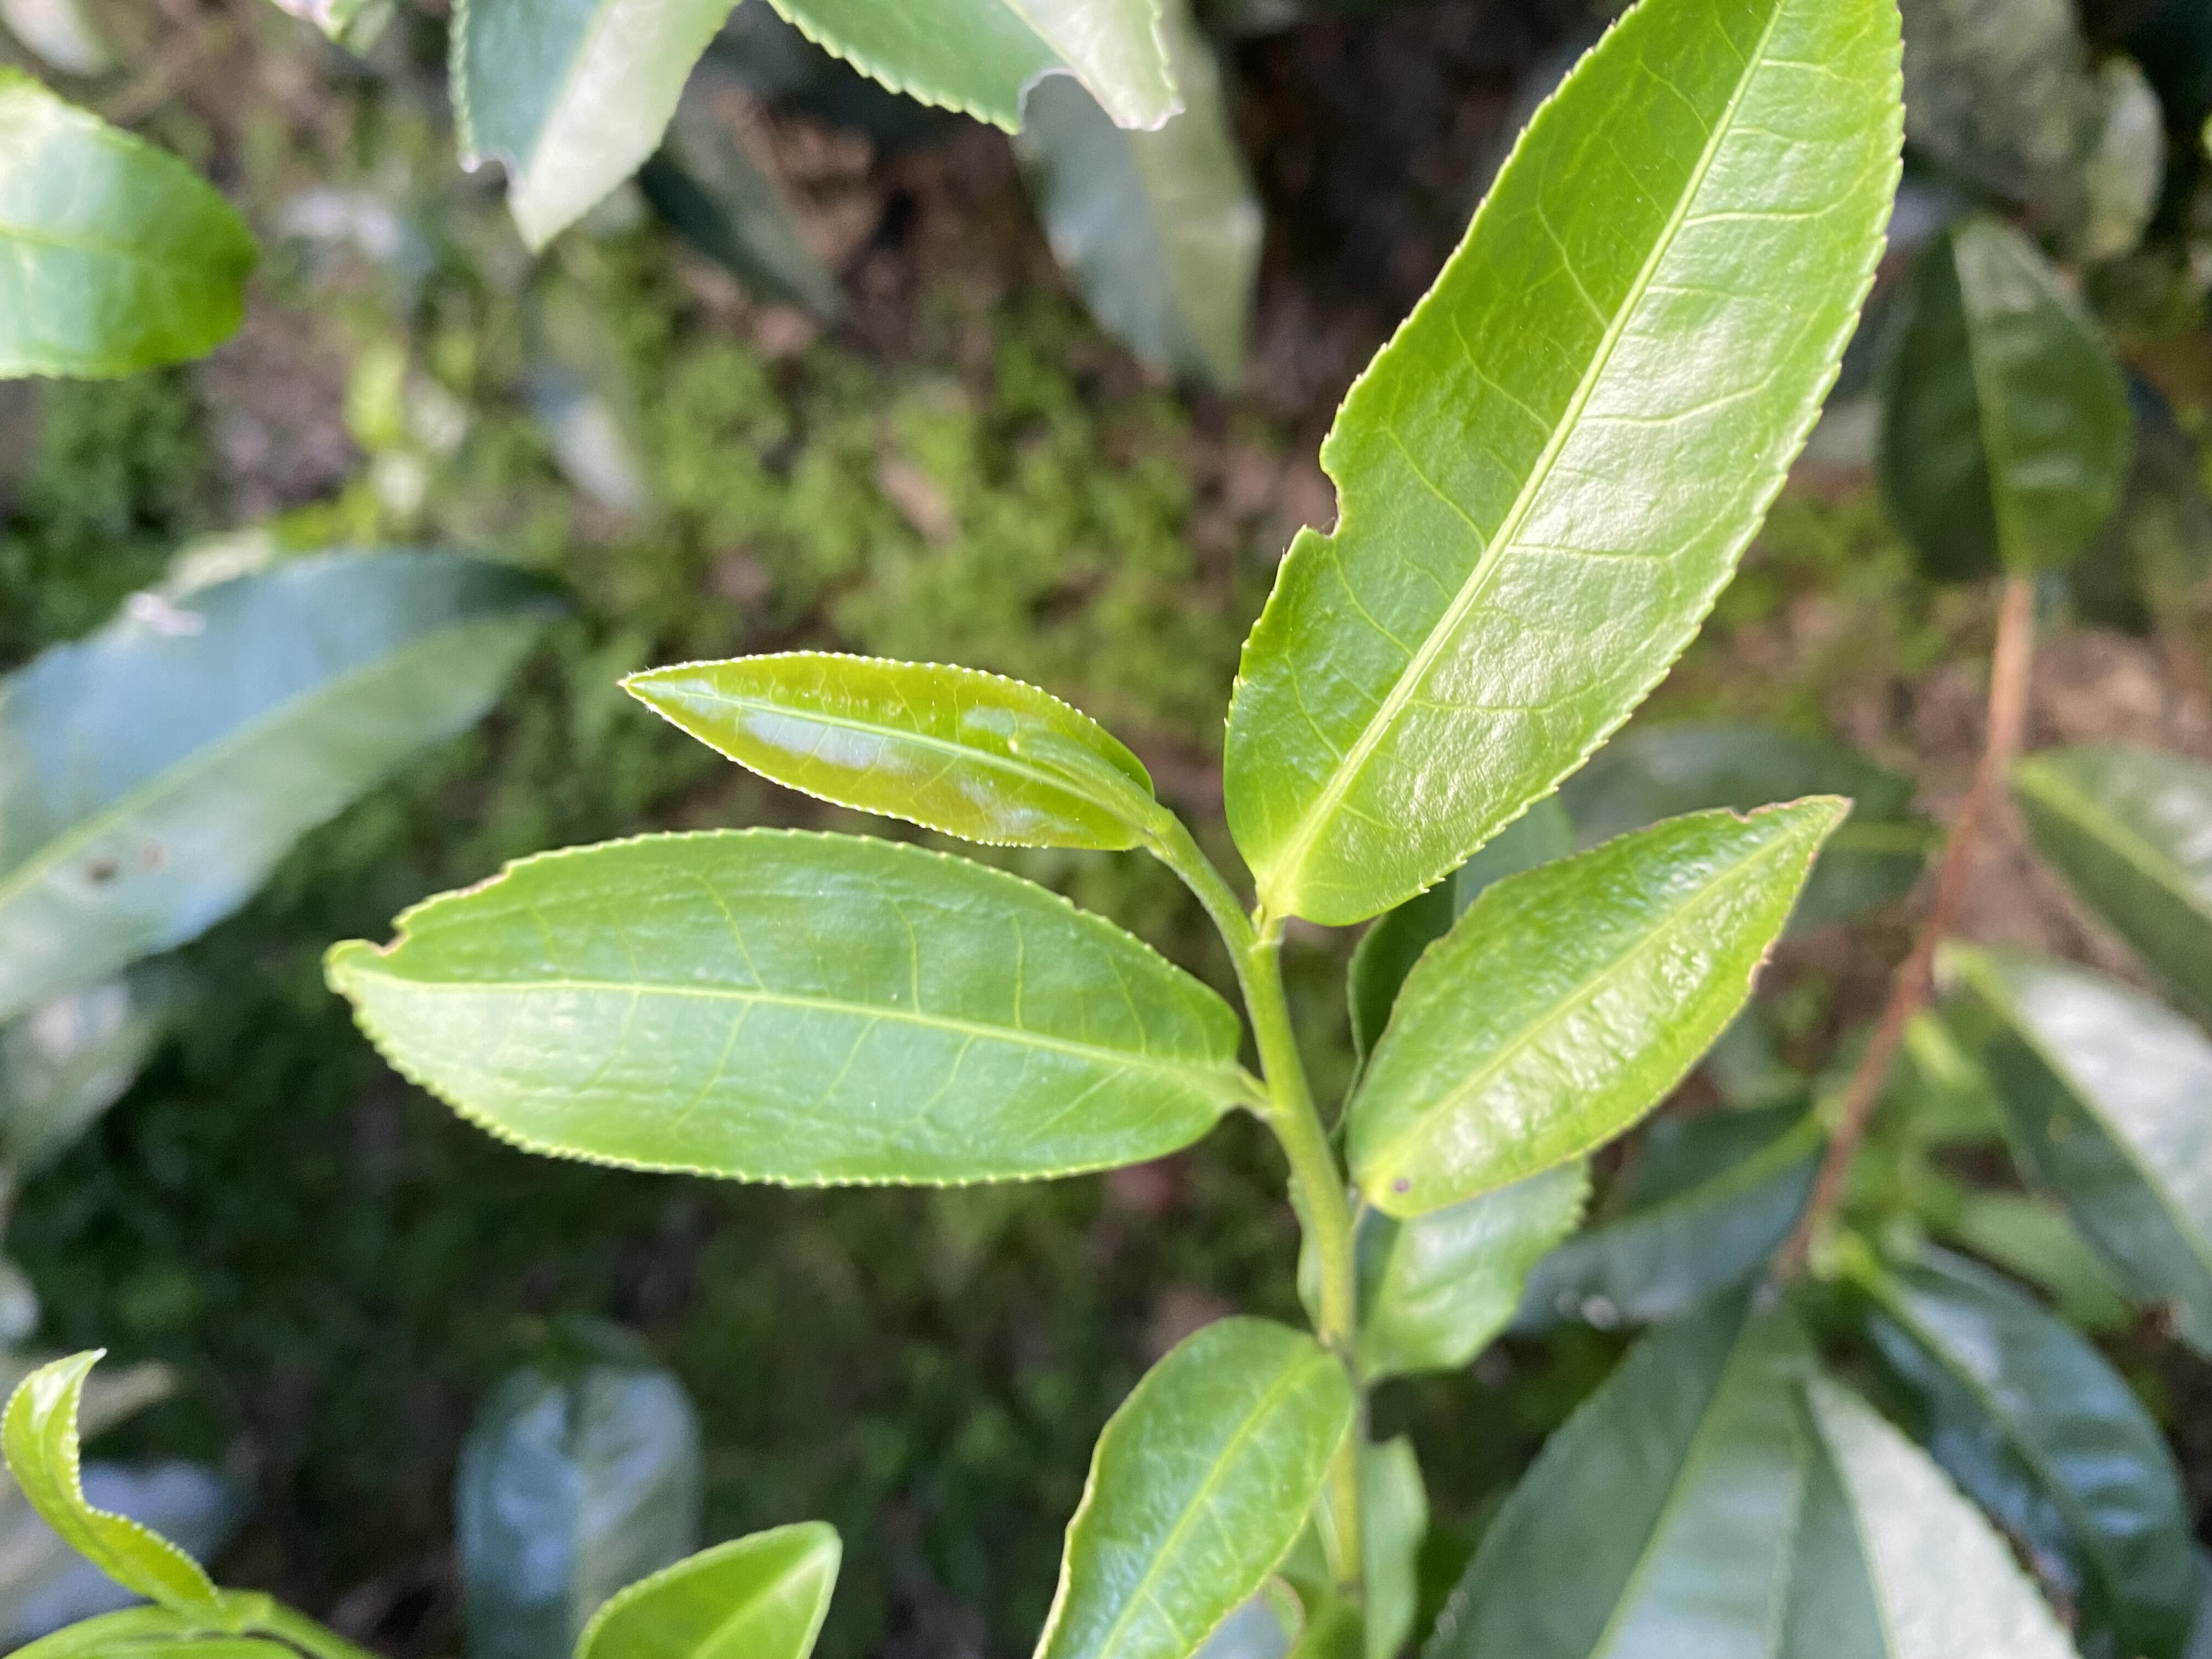chihuo_low: (1217, 2, 1911, 929), (319, 826, 1245, 1194), (441, 3, 751, 258), (765, 2, 1190, 139)
healthy: (615, 647, 1155, 852)
tanju_low: (1343, 791, 1857, 1225)
